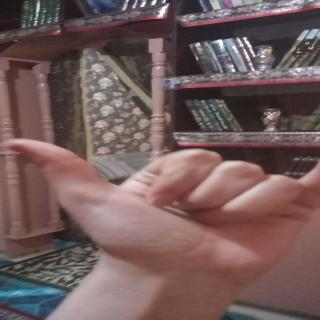YA: (3, 128, 320, 279)
